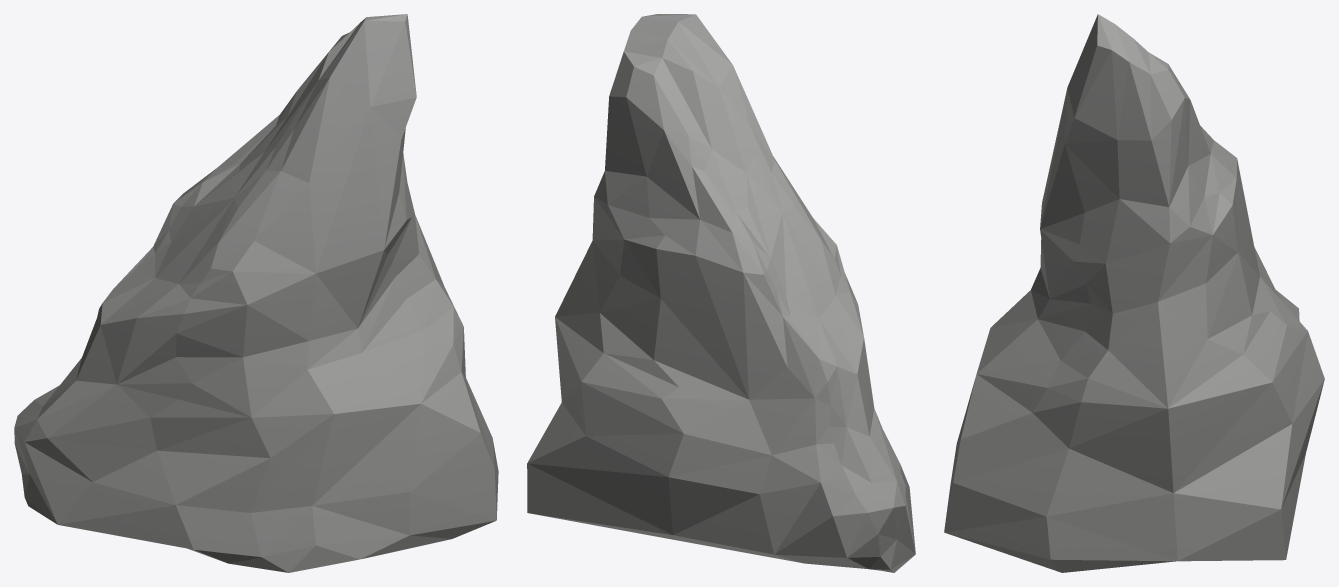
The model's file is Cavern_Wall_Filler-02.fbx.
3 renders of one model, left to right at view 1: azimuth 30°, elevation 25°; view 2: azimuth 150°, elevation 25°; view 3: azimuth 270°, elevation 25°, orthographic. The views are drawn at different scales.
Visible parts, largest first — view 1: Cavern_Wall_Filler-02; view 2: Cavern_Wall_Filler-02; view 3: Cavern_Wall_Filler-02.
Boxes of the visible parts, <box> form: Cavern_Wall_Filler-02: <box>14,14,498,572</box>; Cavern_Wall_Filler-02: <box>527,14,915,572</box>; Cavern_Wall_Filler-02: <box>944,14,1324,572</box>.
Size of the model in its own units: 1089 by 1277 by 863.
1 material, 1 textured.
